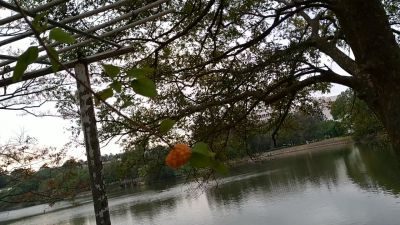eggs: (165, 144, 192, 169)
